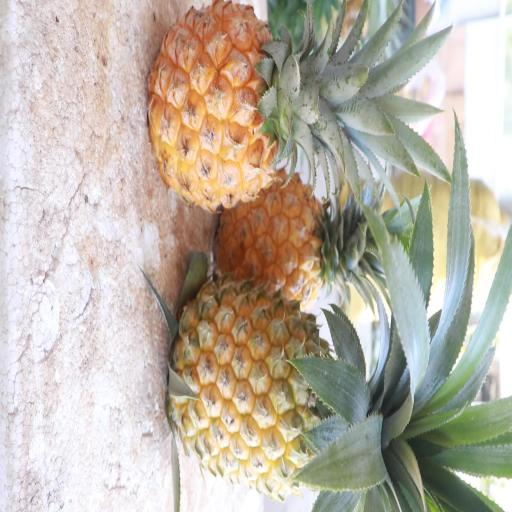Pineapple - v8 v1: (163, 272, 387, 504), (145, 0, 357, 216), (213, 165, 380, 312)
